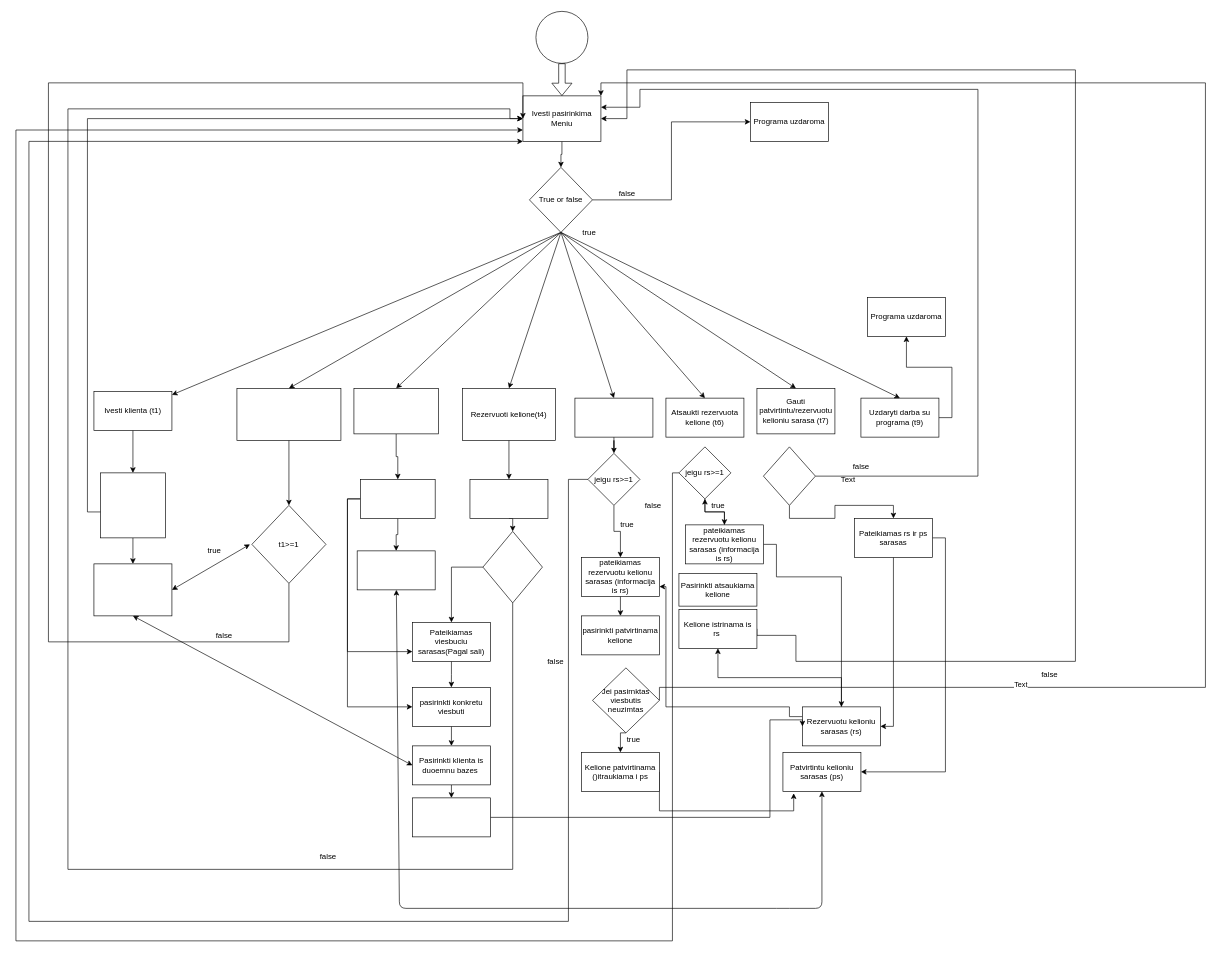
The diagram is 1222 pixels wide and 957 high, and some of its shapes have lost their labels. The box of each missing label's shape, as (x1, y1, x2, y2) in pixels:
Gauti klientu sarasa(t2): (236, 388, 341, 440)
Gauti viesbuciu sarasa (t3): (353, 388, 438, 434)
Ivesti sali: (469, 479, 548, 518)
Ivesti varda ir pavarde: (100, 472, 165, 538)
Jei s yra t3 sarase: (482, 531, 542, 603)
jeigu rs>=1 ir ps>=1: (763, 446, 815, 505)
kelione rezervuota. Itraukiama i (rs): (412, 797, 490, 837)
Klientas itraukiamas i duobenu baze: (93, 563, 172, 616)
Patvirtini rezervuota kelione (t5): (574, 397, 653, 437)
Start: (535, 11, 588, 63)
Viebuciu parametrai (Salis, (s), Miestas(m), Lygis(l), ArUzimta(Taip, Ne)): (357, 550, 435, 590)
Viesbuciu sarasas: (360, 479, 435, 518)
